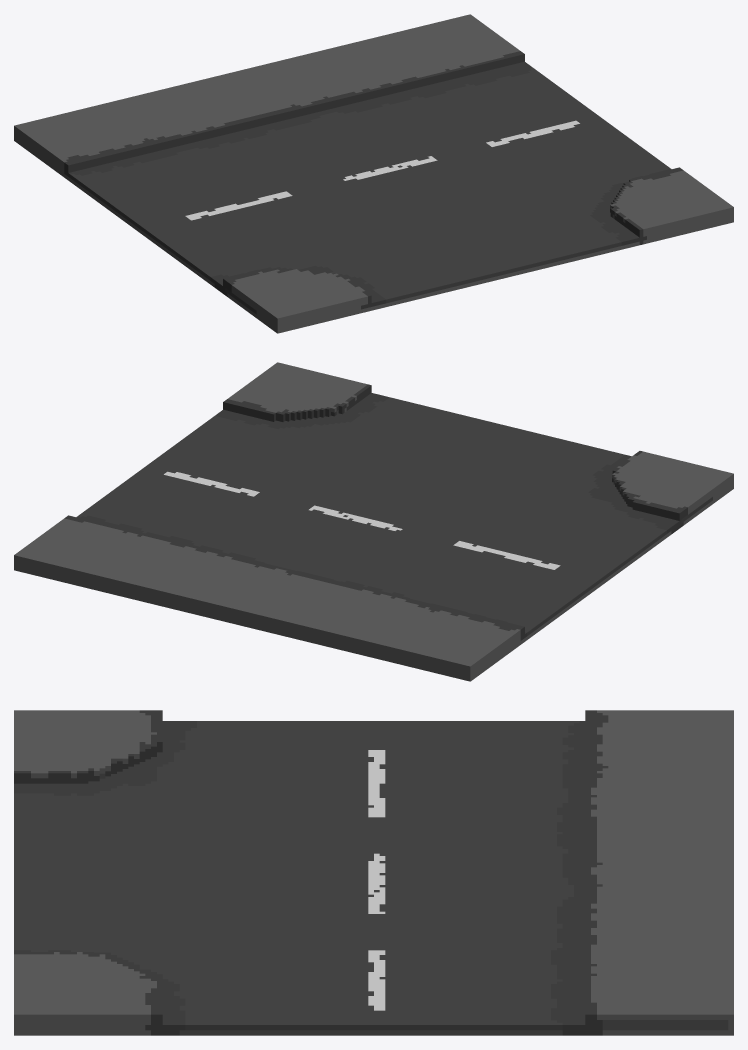
Rendered from Road-3.obj.
The picture shows the model from 3 angles, top to bottom: view 1: azimuth 30°, elevation 25°; view 2: azimuth 150°, elevation 25°; view 3: azimuth 270°, elevation 25°; orthographic projection. The views are drawn at different scales.
Bounding box in the file's own units: 12.6 × 0.4 × 12.6.
1 material, 1 textured.
